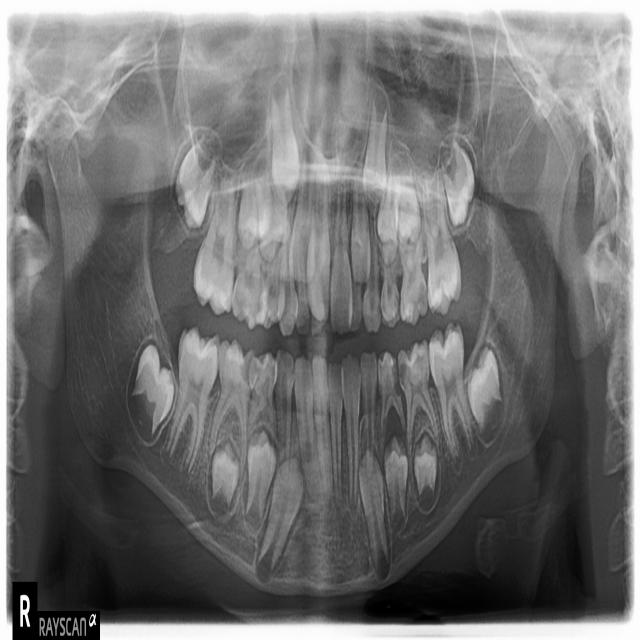mandibula: (44, 94, 583, 595)
